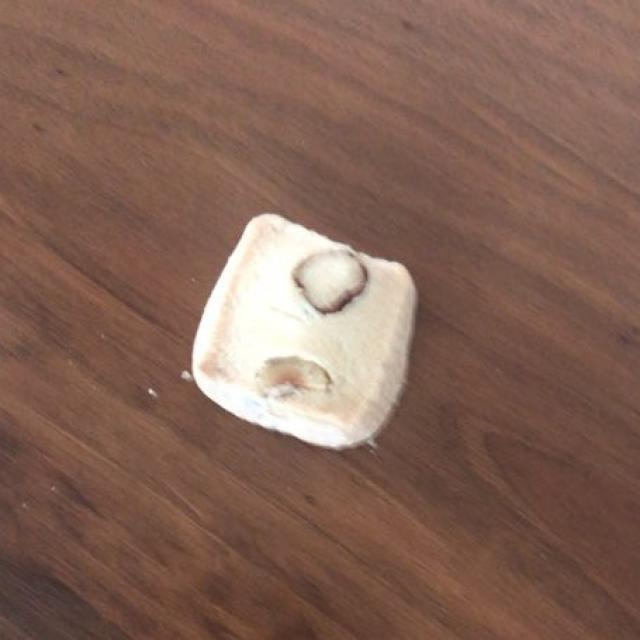biscuits: (191, 217, 417, 445)
